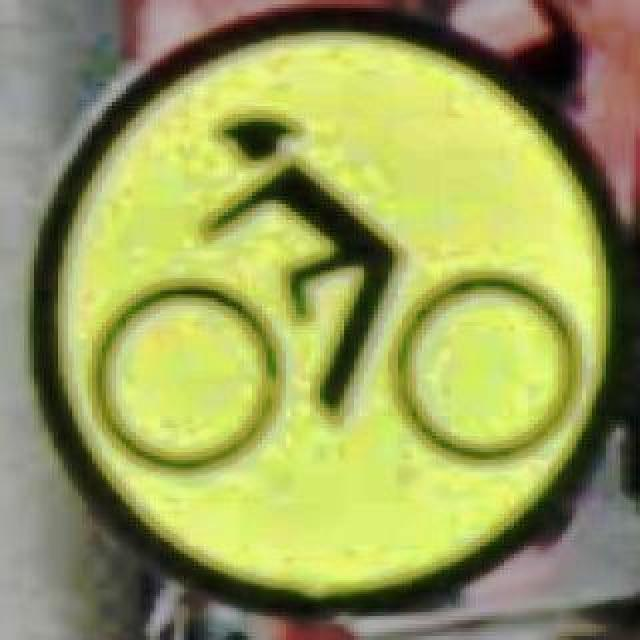bike lane: (26, 8, 626, 604)
